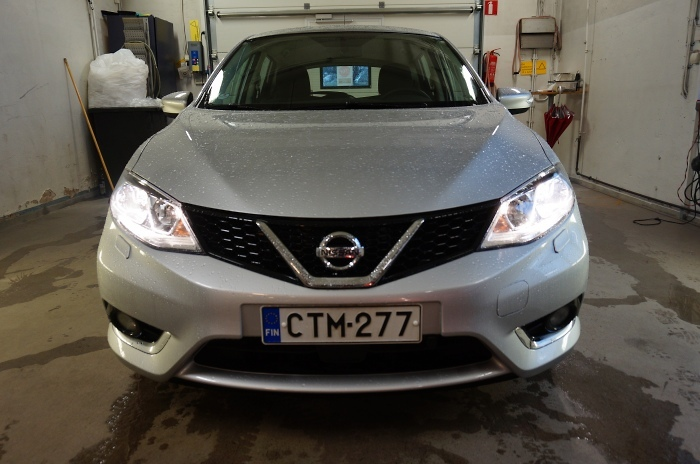license: (257, 298, 421, 345)
